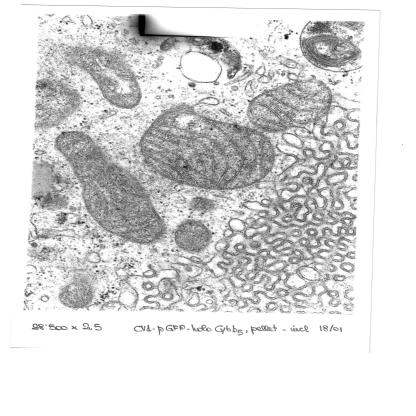mitochondria: (53, 130, 168, 246), (138, 107, 276, 191), (247, 78, 335, 134), (68, 46, 144, 109), (36, 80, 83, 128), (172, 218, 214, 254), (56, 281, 94, 309), (186, 196, 220, 213)
